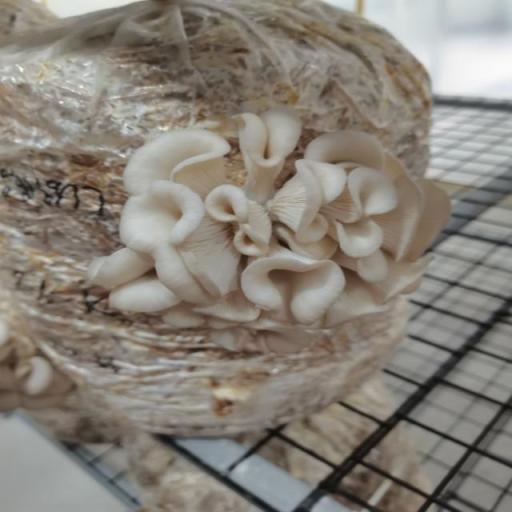White Oyster Mushroom: (83, 108, 458, 335)
